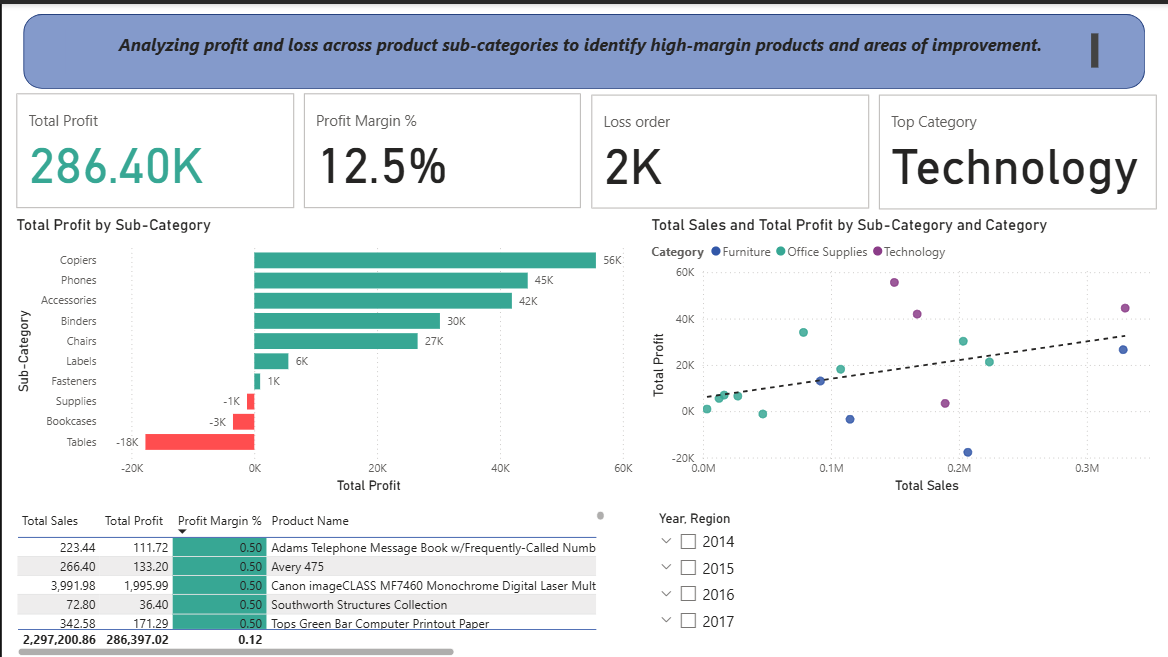

The page's visual inventory and layout, read from the dashboard file:
{"tool":"powerbi","page":{"name":"Profitability Analysis","canvas":[1280,720],"ordinal":1},"visuals":[{"type":"cardVisual","fields":{"Data":["Sample - Superstore.Total Profit"]},"box":[11.2,93.3,316,136.8],"z":0},{"type":"cardVisual","fields":{"Data":["Sample - Superstore.Profit Margin %"]},"box":[327.2,93.3,314.7,136.8],"z":1000},{"type":"cardVisual","fields":{"Data":["Sample - Superstore.Top Category"]},"box":[957.8,94.5,316,136.8],"z":2000},{"type":"cardVisual","fields":{"Data":["Sample - Superstore.Loss order"]},"box":[641.9,94.5,316,135.6],"z":3000},{"type":"shape","box":[23.6,11.2,1231.5,82.1],"z":4000},{"type":"textbox","box":[69.7,27.4,1138.2,49.8],"z":5000},{"type":"clusteredBarChart","fields":{"Category":["Sample - Superstore.Sub-Category"],"Y":["Sample - Superstore.Total Profit"]},"box":[11.2,231.4,696.6,309.7],"z":6000},{"type":"scatterChart","fields":{"X":["Sample - Superstore.Total Sales"],"Y":["Sample - Superstore.Total Profit"],"Category":["Sample - Superstore.Sub-Category"],"Series":["Sample - Superstore.Category"]},"box":[707.8,231.4,572.2,309.7],"z":7000},{"type":"tableEx","fields":{"Values":["Sample - Superstore.Total Sales","Sample - Superstore.Total Profit","Sample - Superstore.Profit Margin %","Sample - Superstore.Product Name"]},"box":[11.2,551.1,655.6,169.2],"z":8000},{"type":"slicer","fields":{"Values":["Sample - Superstore.Order Date.Variation.Date Hierarchy.Year","Sample - Superstore.Region"]},"box":[708,551,572,169],"z":9000}]}

Visuals, with their boxes in screenshot pixels (x1, y1, x2, y2), scaled from the page's 1280x720 canvas onto the 1168x657 screenshot:
cardVisual - Sample - Superstore.Total Profit: crop(10, 85, 299, 210)
cardVisual - Sample - Superstore.Profit Margin %: crop(299, 85, 586, 210)
cardVisual - Sample - Superstore.Top Category: crop(874, 86, 1162, 211)
cardVisual - Sample - Superstore.Loss order: crop(586, 86, 874, 210)
shape: crop(22, 10, 1145, 85)
textbox: crop(64, 25, 1102, 70)
clusteredBarChart - Sample - Superstore.Sub-Category x Sample - Superstore.Total Profit: crop(10, 211, 646, 494)
scatterChart - Sample - Superstore.Total Sales x Sample - Superstore.Total Profit: crop(646, 211, 1167, 494)
tableEx - Sample - Superstore.Total Sales x Sample - Superstore.Total Profit: crop(10, 503, 608, 656)
slicer - Sample - Superstore.Order Date.Variation.Date Hierarchy.Year x Sample - Superstore.Region: crop(646, 503, 1167, 656)
